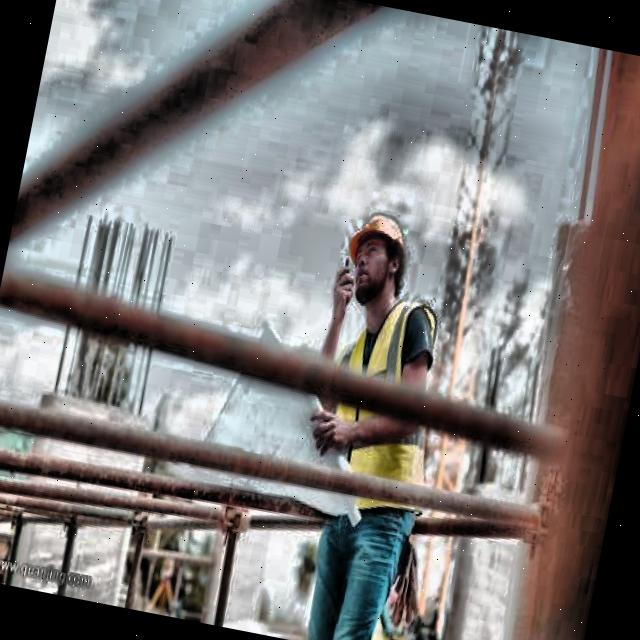helmet: (334, 196, 418, 318)
